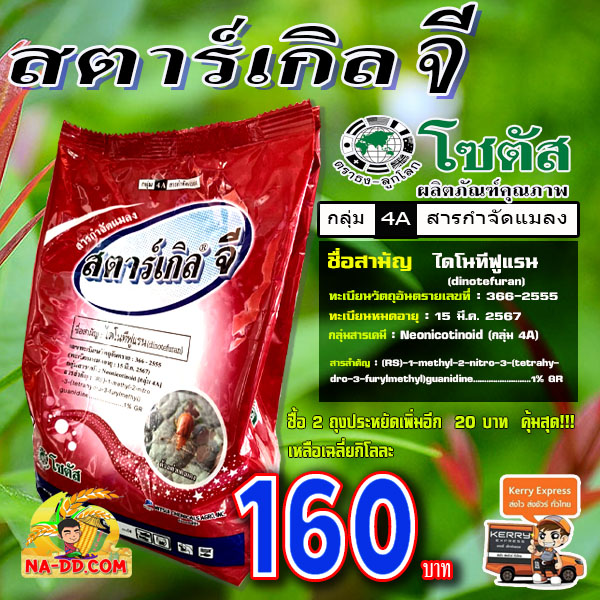Insecticide: (23, 104, 326, 572)
